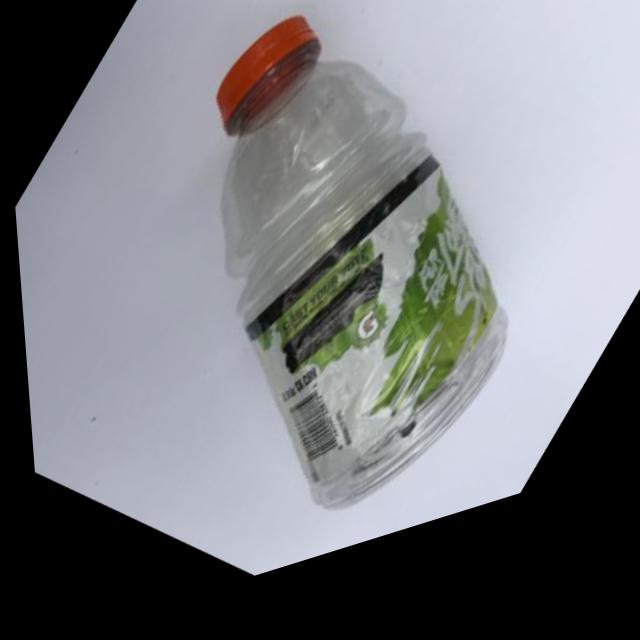plastic: (2, 0, 640, 640)
